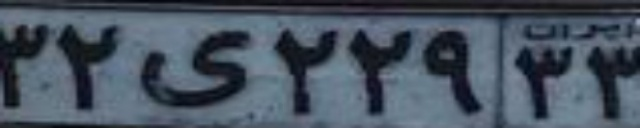2: (55, 21, 129, 110), (273, 28, 338, 115), (349, 27, 408, 117)
3: (512, 44, 572, 119), (0, 21, 47, 108), (584, 44, 638, 119)
9: (422, 29, 486, 116)
ye: (135, 28, 257, 107)
